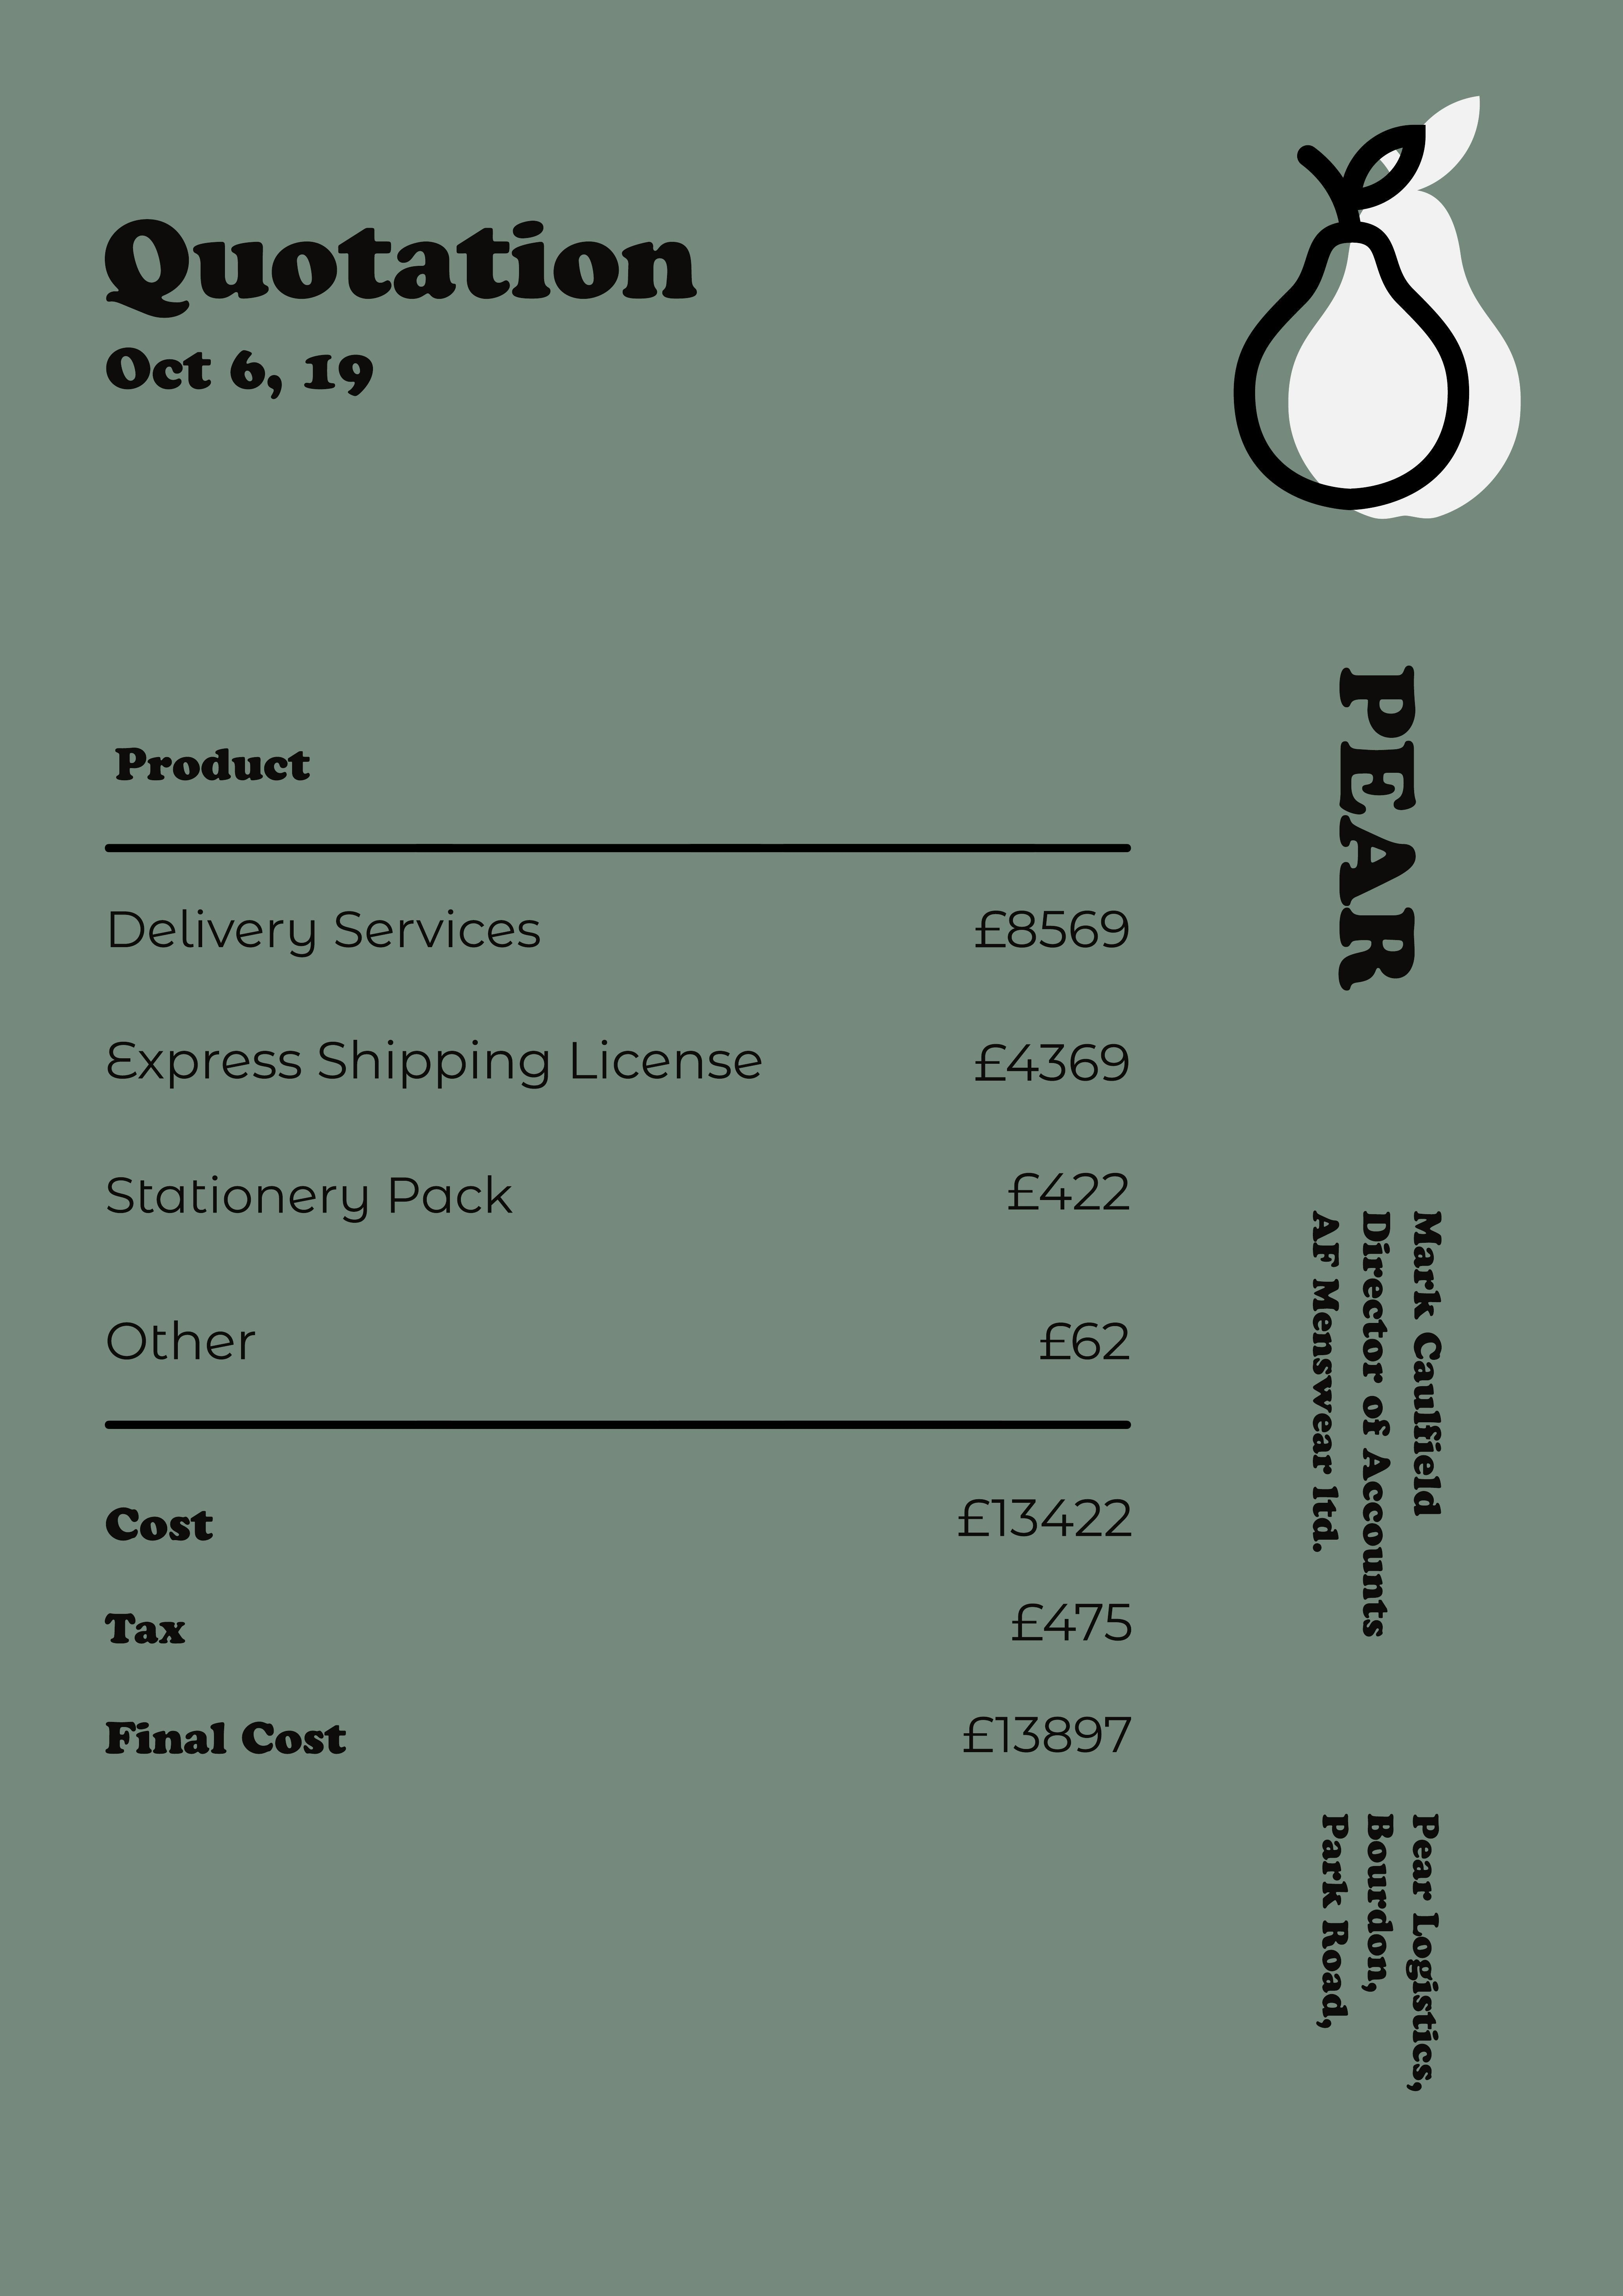ROI: (98, 731, 1159, 1421), (90, 1469, 1158, 1785), (1291, 1780, 1468, 2147), (83, 321, 437, 413)
